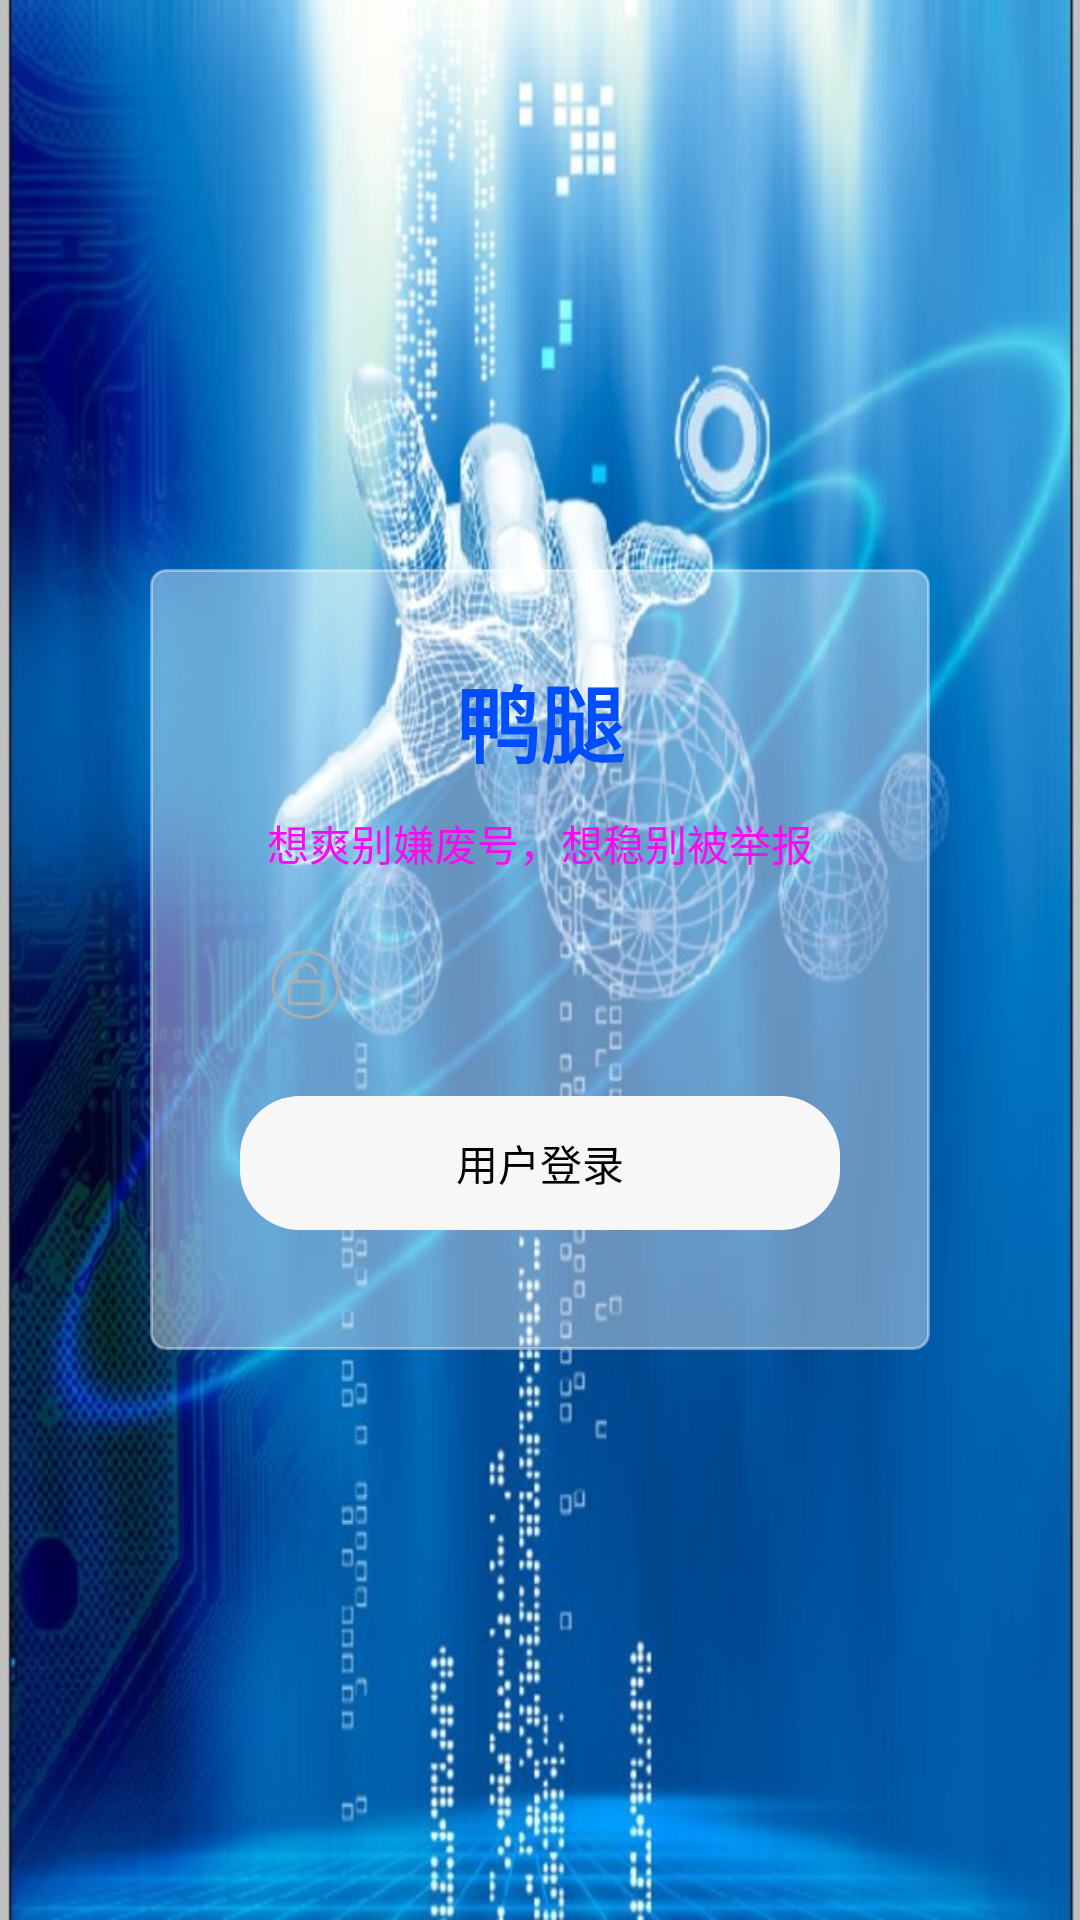

Icons on this 1080px x 1920px Android screen, each with its box as BBox(x1, y1, x2, y2):
mima: BBox(270, 949, 342, 1021)
